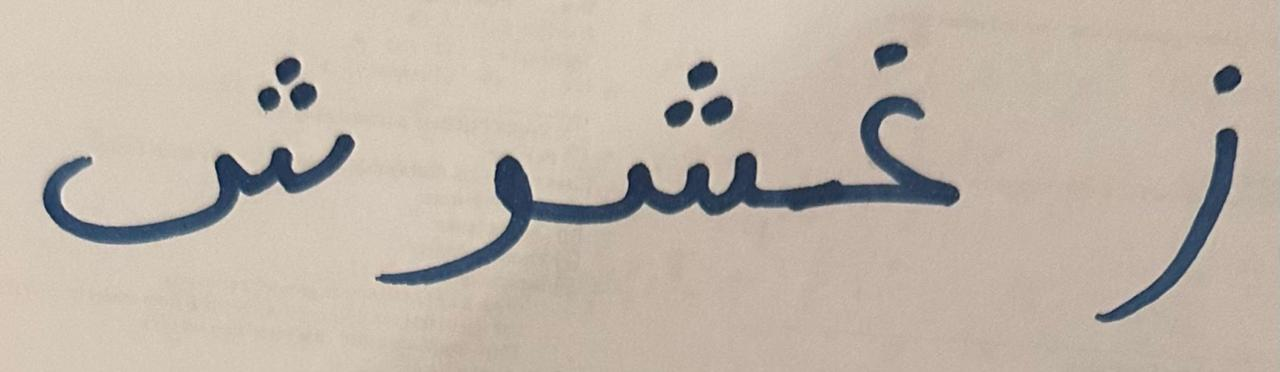ghain: (788, 12, 1009, 274)
hamza: (1014, 23, 1268, 346)
tah: (17, 13, 364, 276), (576, 1, 784, 260)
yeh: (368, 88, 571, 315)
